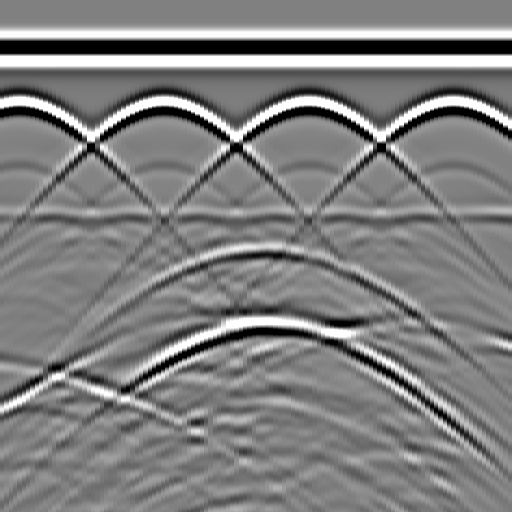grout_surface: (1, 201, 512, 231)
rebar: (142, 85, 182, 125), (286, 85, 326, 125), (430, 85, 470, 125)
rock_surface: (1, 318, 511, 394)
water_void: (234, 225, 294, 265)
